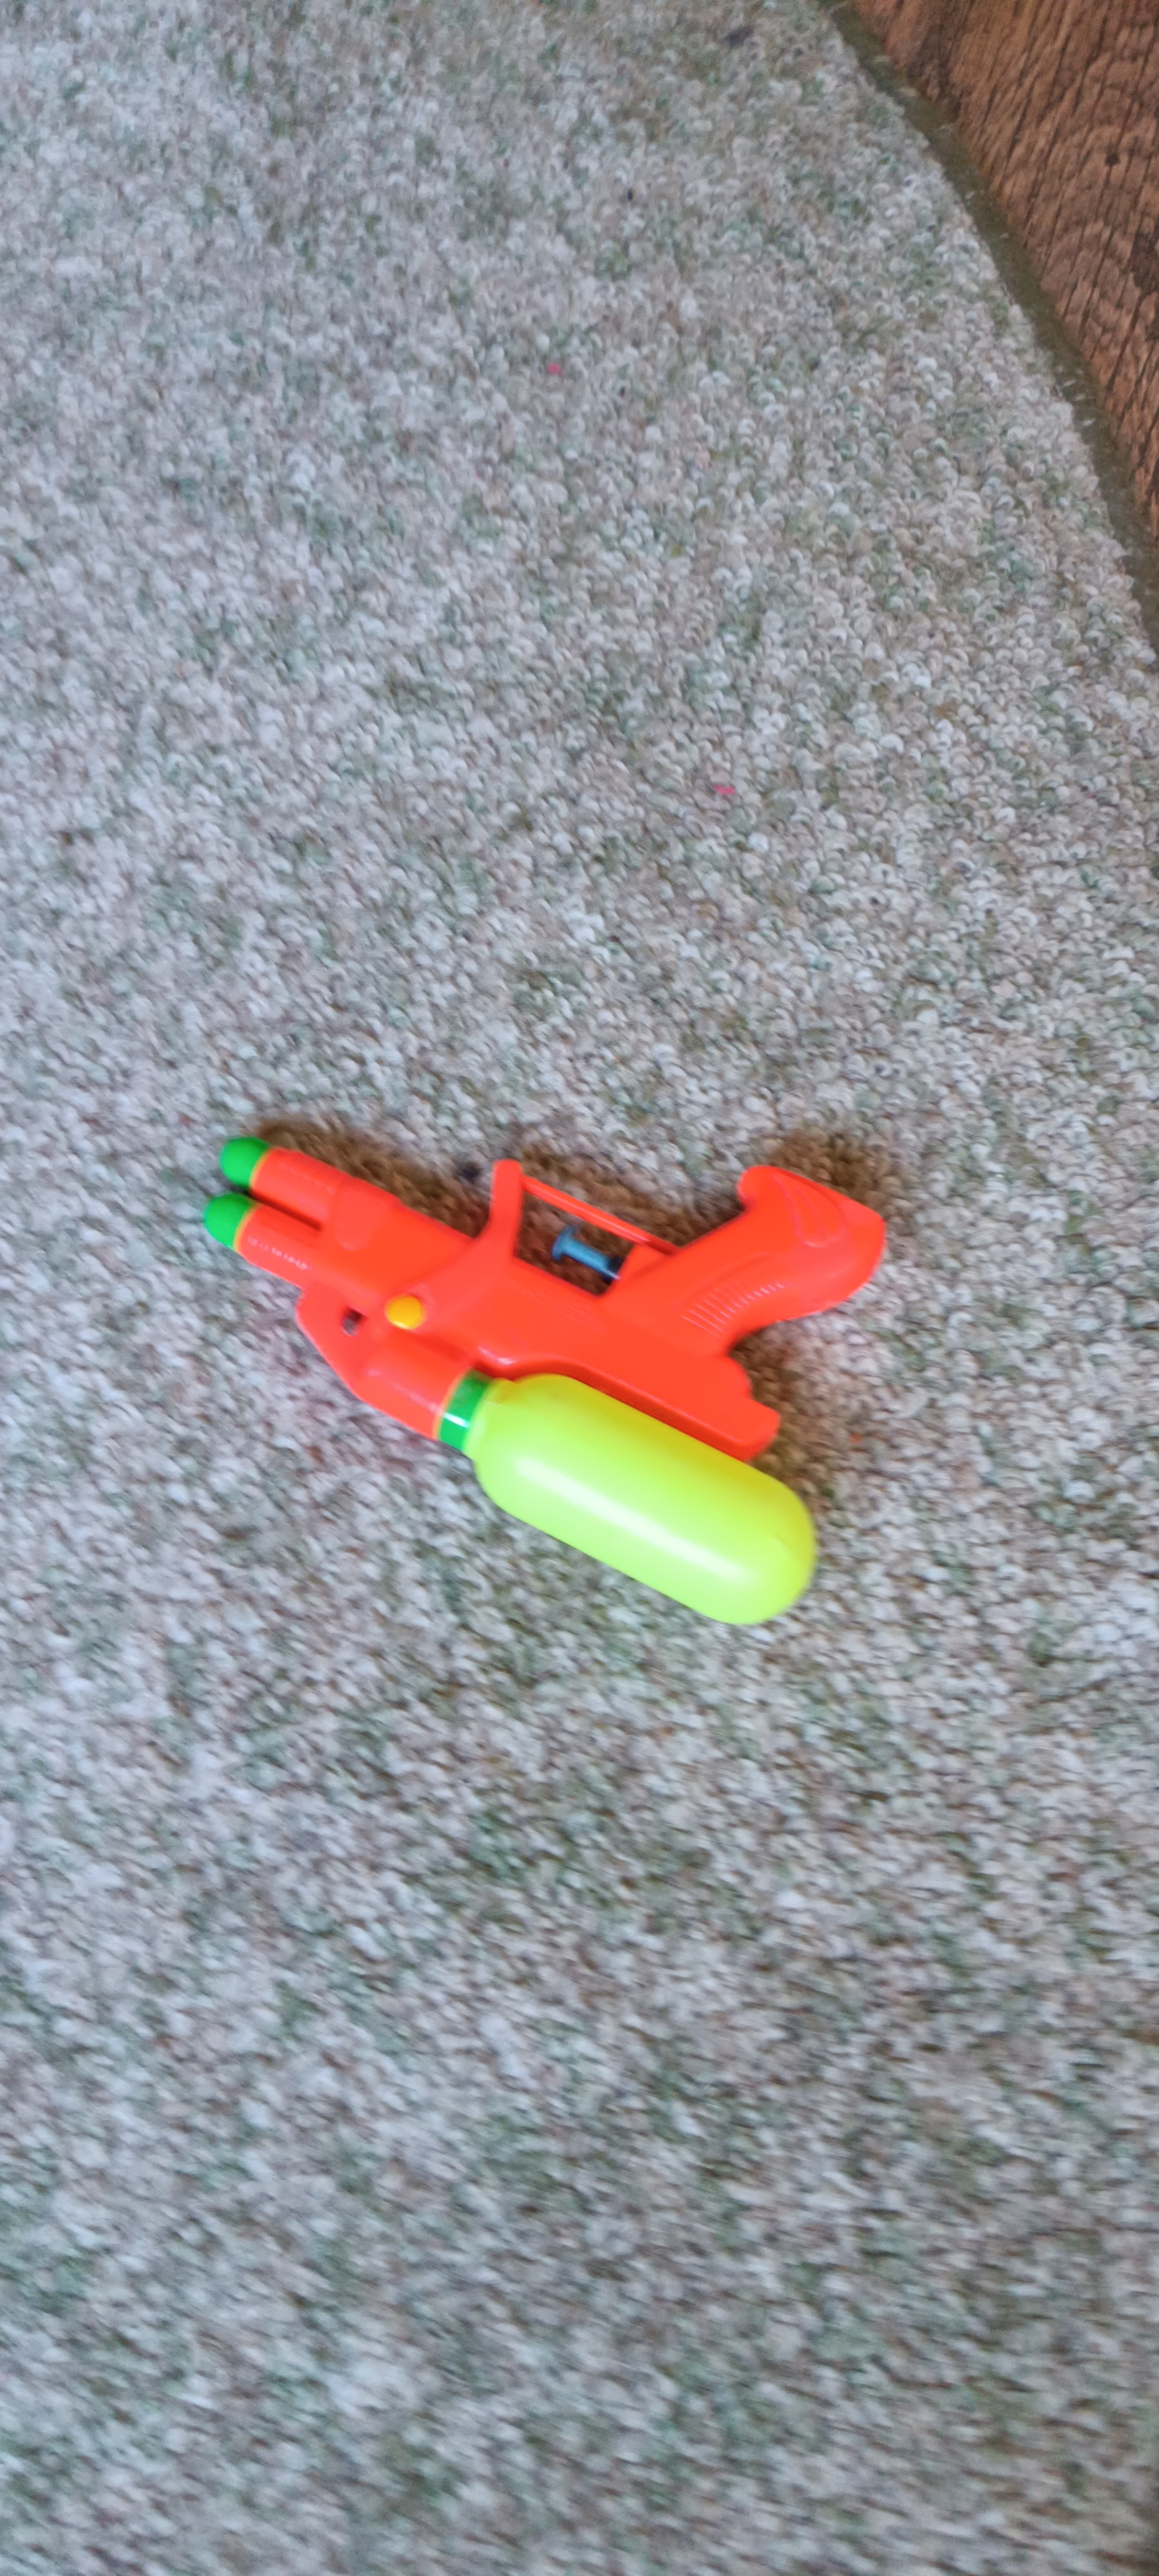Water Gun: (202, 1135, 888, 1623)
